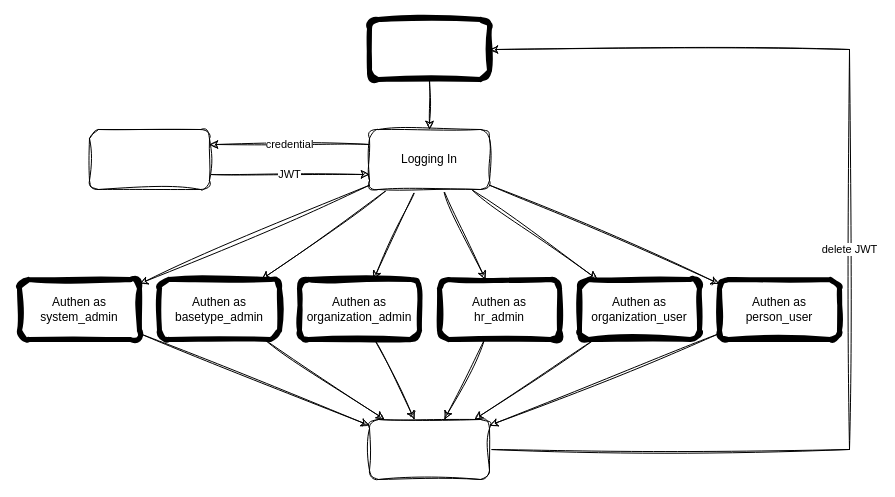
This 895x497 diagram has some shape labels left out. Here are the shapes that lost their labels. From the top down, the box of each, then its label:
(366, 16, 492, 82): Not Authen
(88, 128, 210, 190): OAuth 2.0 server
(368, 418, 490, 480): Loggin Out
